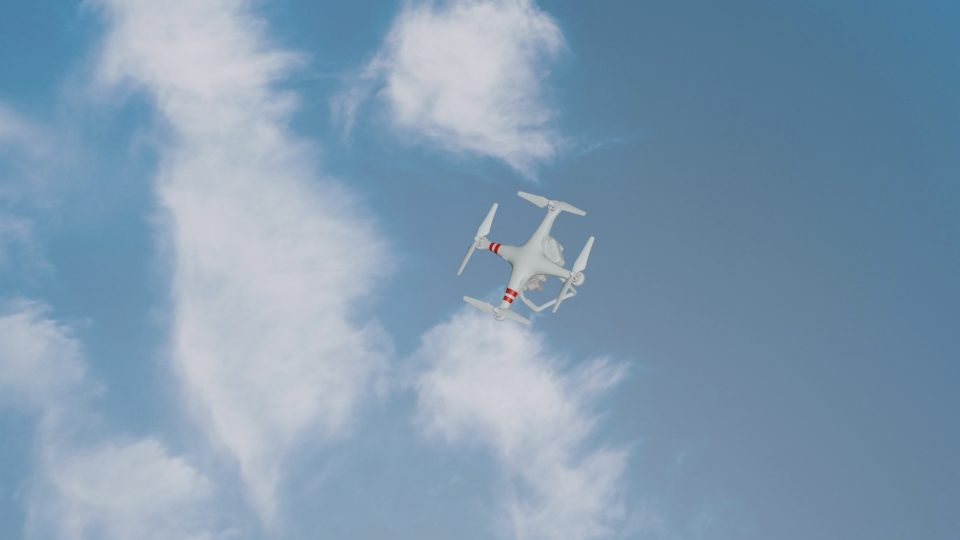drone: (458, 188, 597, 326)
